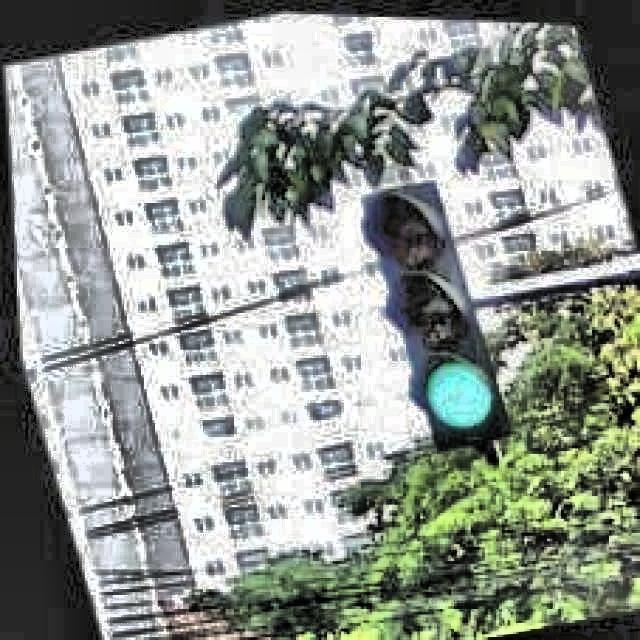green: (362, 189, 516, 448)
